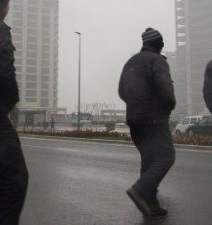person: (117, 24, 178, 222)
